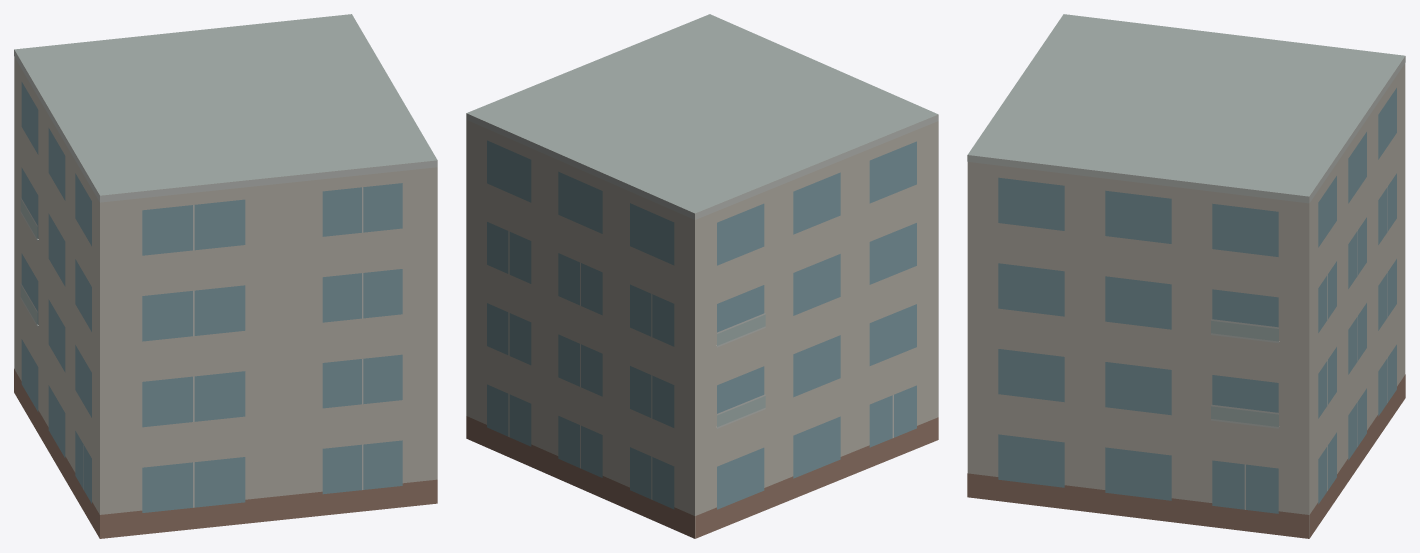
The model's file is residential-0803ac3c-5249-4f3f-8ecf-37af6078cbfb.glb.
The picture shows the model from 3 angles, left to right: view 1: azimuth 30°, elevation 25°; view 2: azimuth 150°, elevation 25°; view 3: azimuth 270°, elevation 25°; orthographic projection. The views are drawn at different scales.
Visible parts, largest first — view 1: residential-0803ac3c-5249-4f3f-8ecf-37af6078cbfb.tmp; view 2: residential-0803ac3c-5249-4f3f-8ecf-37af6078cbfb.tmp; view 3: residential-0803ac3c-5249-4f3f-8ecf-37af6078cbfb.tmp.
Part boxes in pixels (x1,y1,x2,y2): residential-0803ac3c-5249-4f3f-8ecf-37af6078cbfb.tmp: [14, 14, 437, 538]; residential-0803ac3c-5249-4f3f-8ecf-37af6078cbfb.tmp: [466, 14, 938, 538]; residential-0803ac3c-5249-4f3f-8ecf-37af6078cbfb.tmp: [967, 14, 1405, 538].
Bounding box in the file's own units: 13.97 × 12.2 × 14.16.
